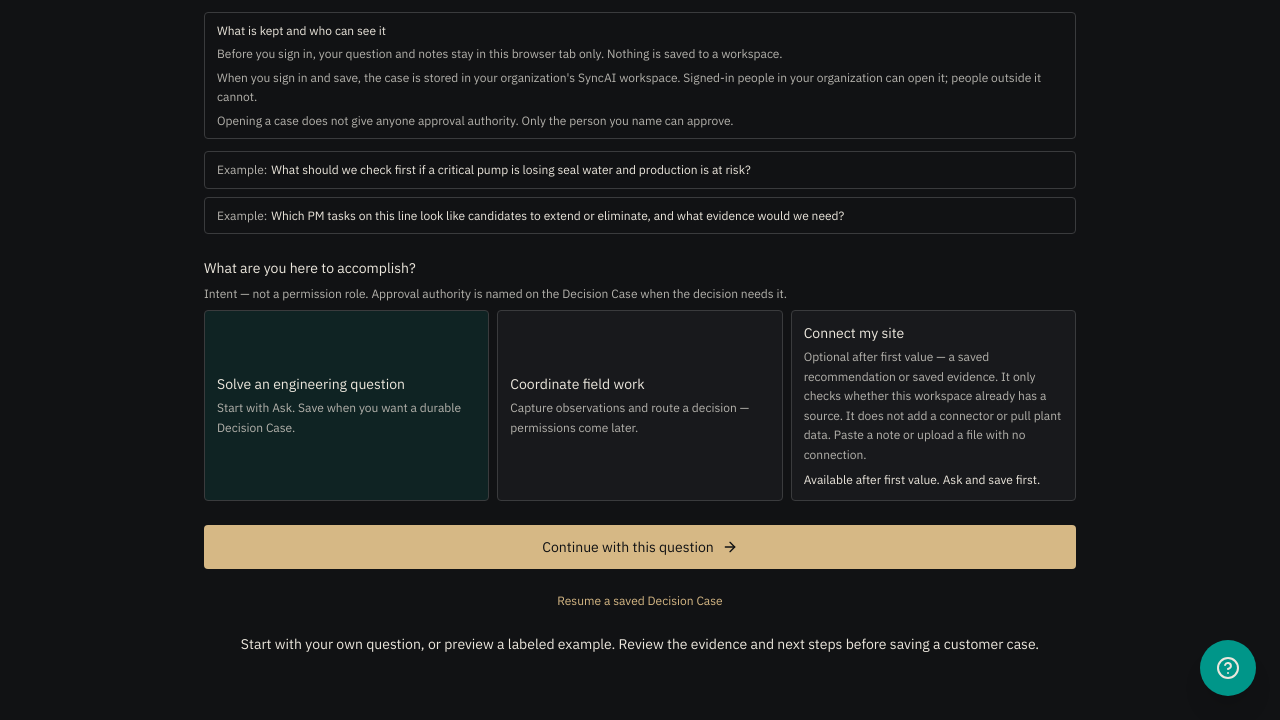
P0.2 Decision Case spine on /get-started › retains anonymous evidence through Back and a repeated continuation without persistence
Earlier steps of the test are not shown.
(page scrolled)
Click the button with test id "inverted-continue" at (640, 547), box [204,525,1076,569]
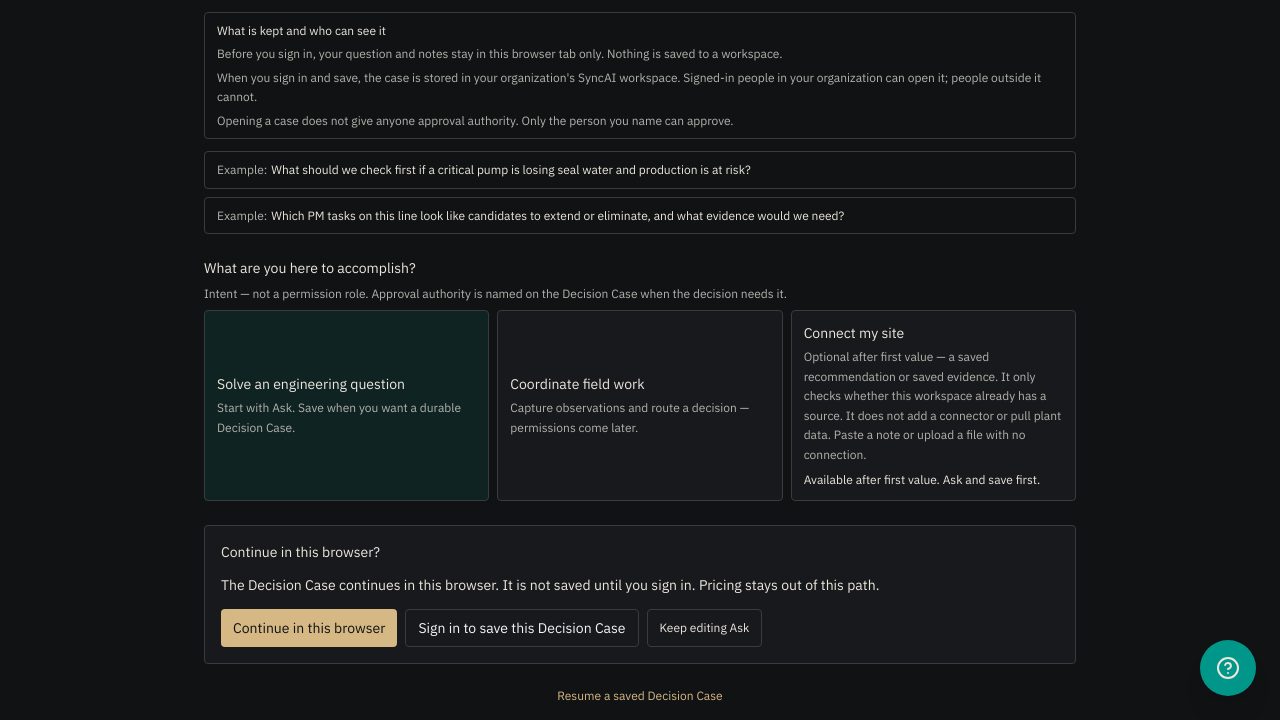
Click the button with test id "inverted-save-continue" at (309, 628), box [221,609,397,647]
(page scrolled)
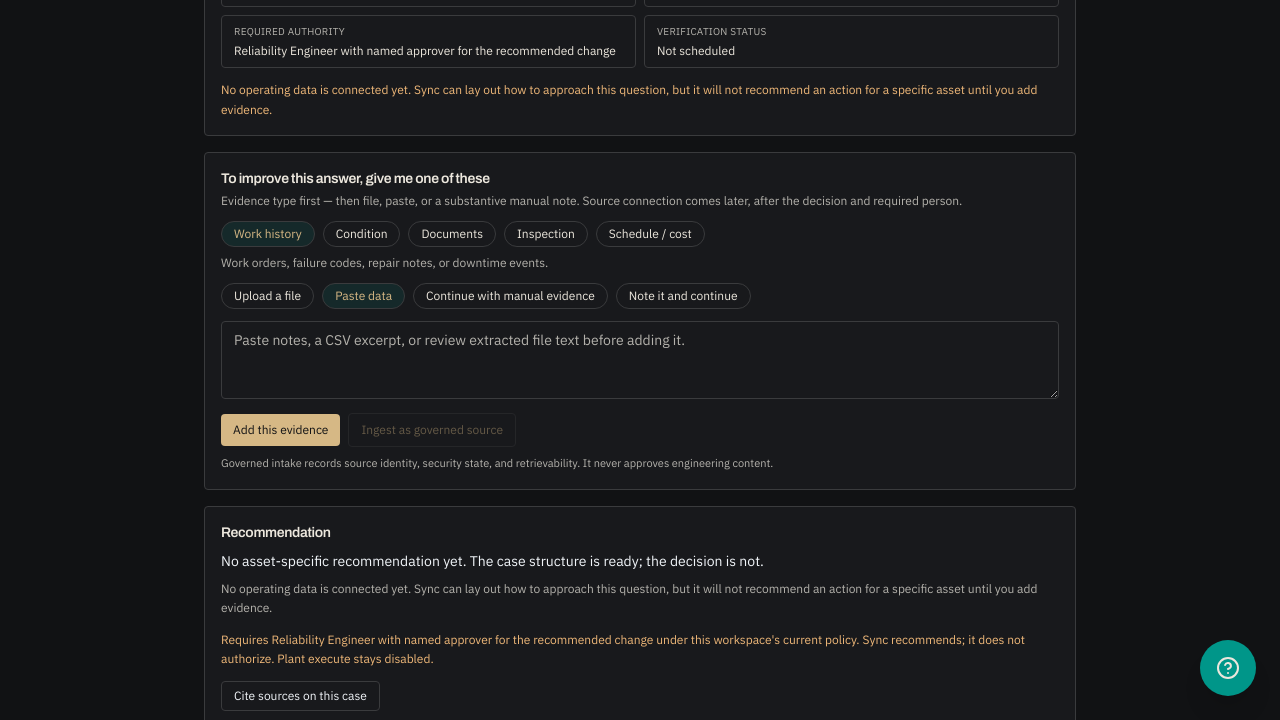
Replace the text in the text box with test id "spine-evidence-body" with "Anonymous synthetic evidence stays in this draft" at (640, 360), box [221,321,1059,399]
Click the button with test id "spine-add-evidence" at (281, 430), box [221,414,340,446]
(page scrolled)
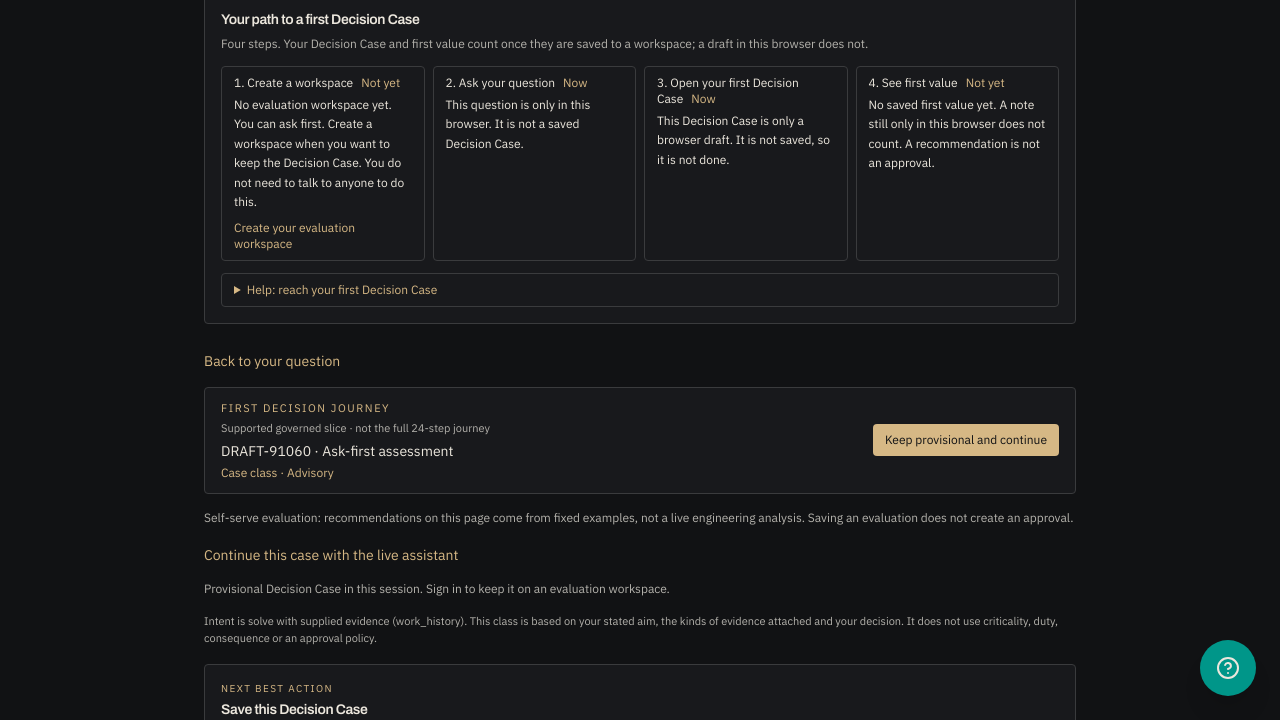
Click the button "Back to your question" at (272, 360), box [204,350,340,370]
(page scrolled)
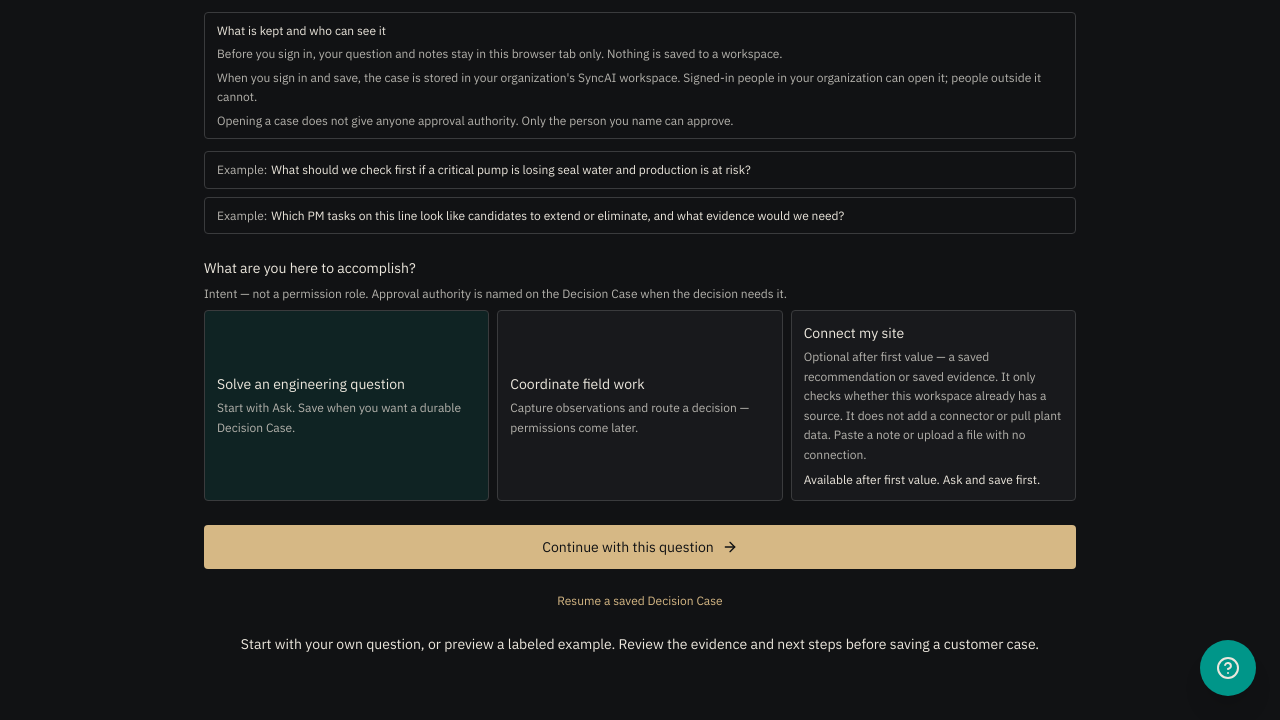
Click the button with test id "inverted-continue" at (640, 547), box [204,525,1076,569]
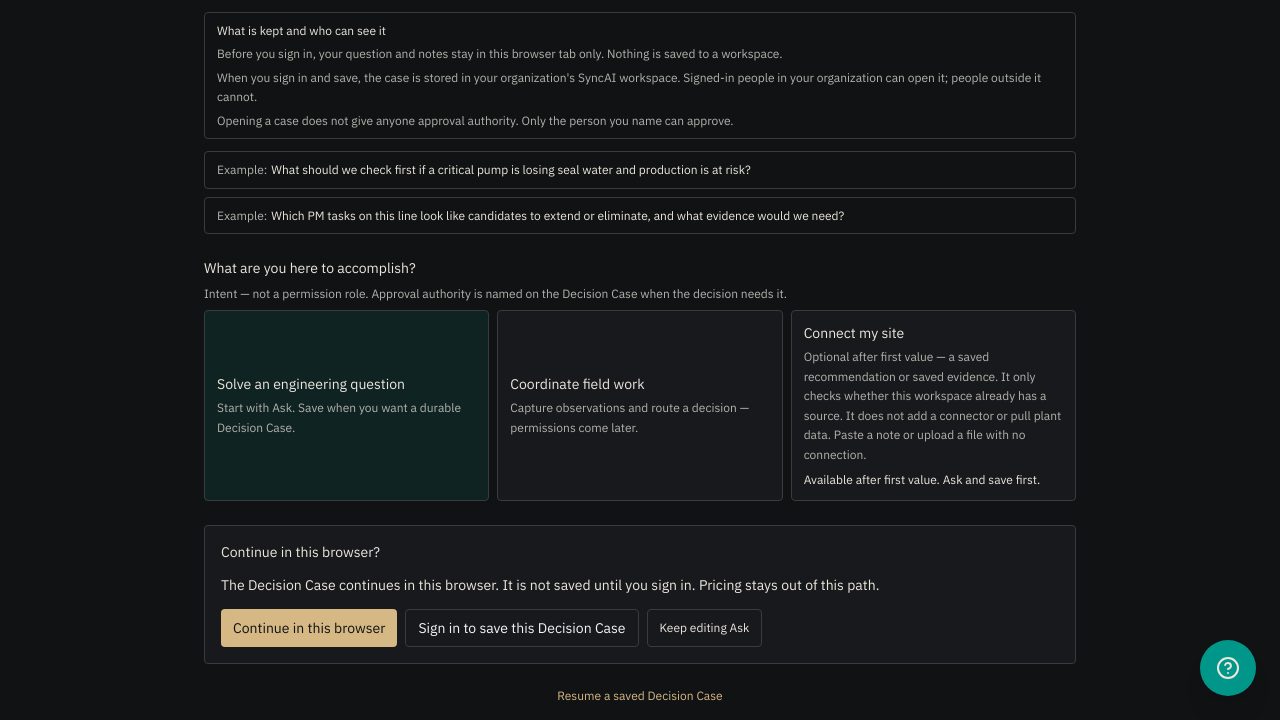
Click the button with test id "inverted-save-continue" at (309, 628), box [221,609,397,647]
(page scrolled)
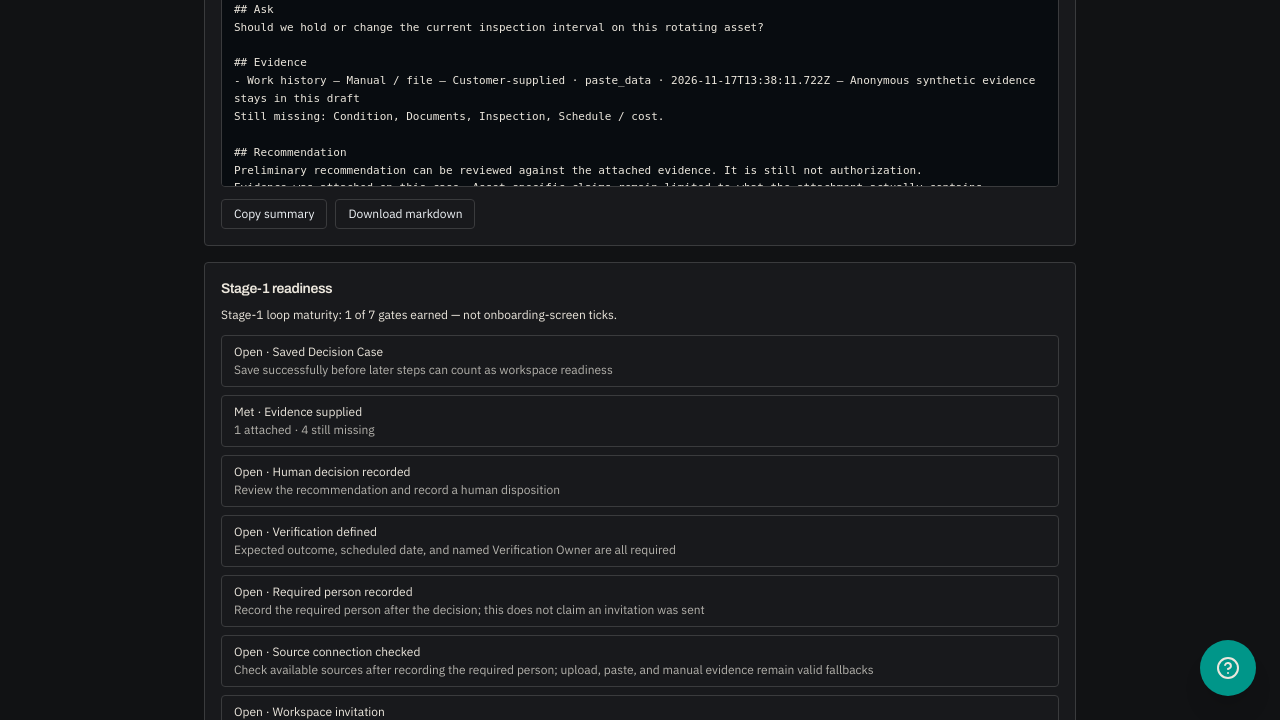
Now the list item with test id "spine-gate-audit_trail" shows "Open", box [234,344,263,358]
